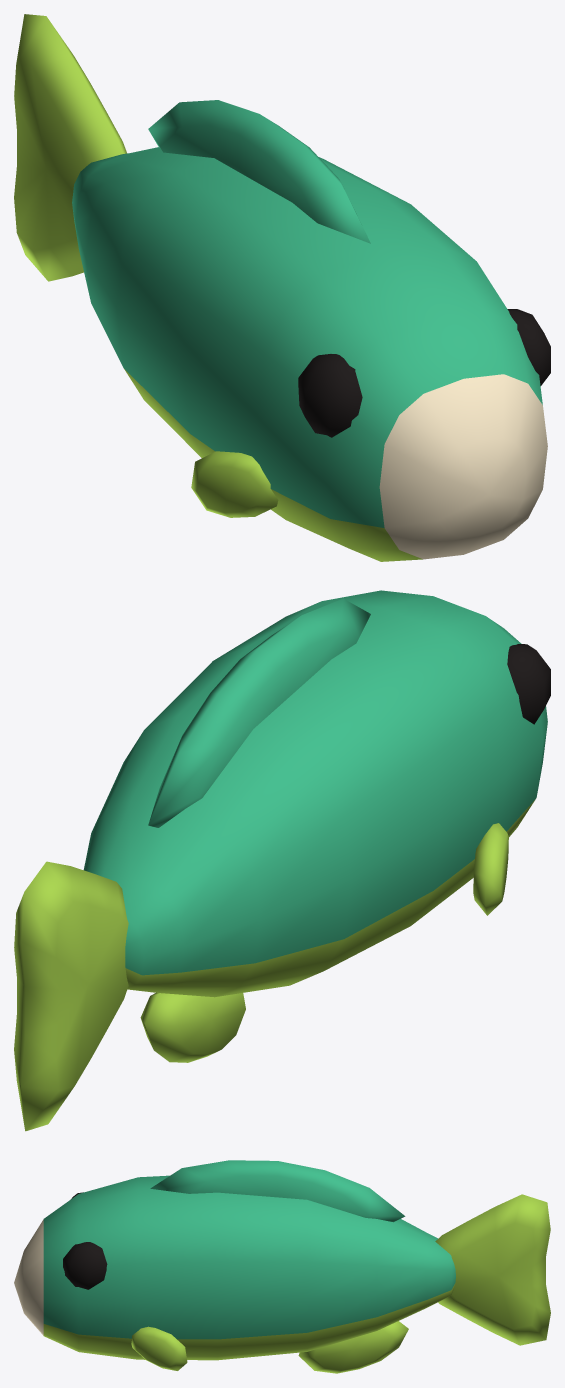
File: fauna_fish_c.glb
3 renders of one model, top to bottom at view 1: azimuth 30°, elevation 25°; view 2: azimuth 150°, elevation 25°; view 3: azimuth 270°, elevation 25°, orthographic. The views are drawn at different scales.
Visible parts, largest first — view 1: body, tail; view 2: body, tail; view 3: body, tail.
Part boxes in pixels (bbox=[...]): body: bbox=[72, 100, 550, 561]; tail: bbox=[14, 14, 126, 281]; body: bbox=[83, 590, 550, 1062]; tail: bbox=[14, 861, 128, 1131]; body: bbox=[14, 1160, 455, 1373]; tail: bbox=[435, 1194, 550, 1345].
Size of the model in its own units: 0.2026 by 0.2369 by 0.5401.
